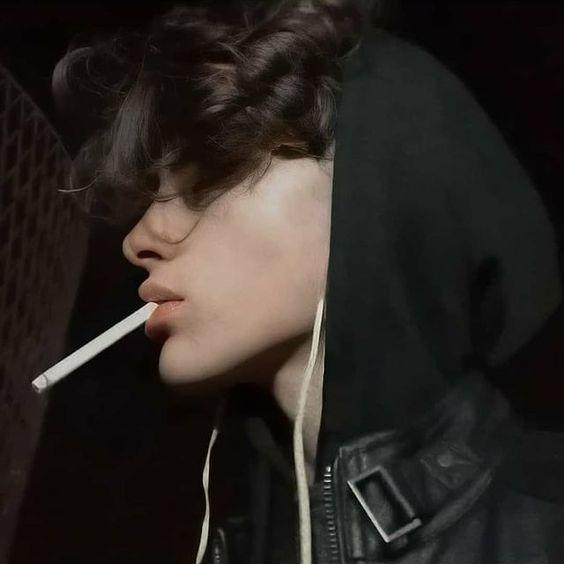cigarette: (32, 302, 159, 393)
